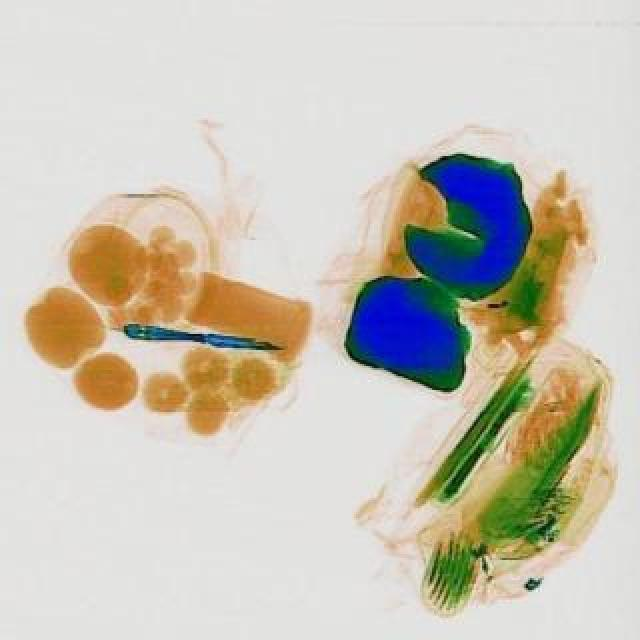knife: (124, 322, 288, 350)
